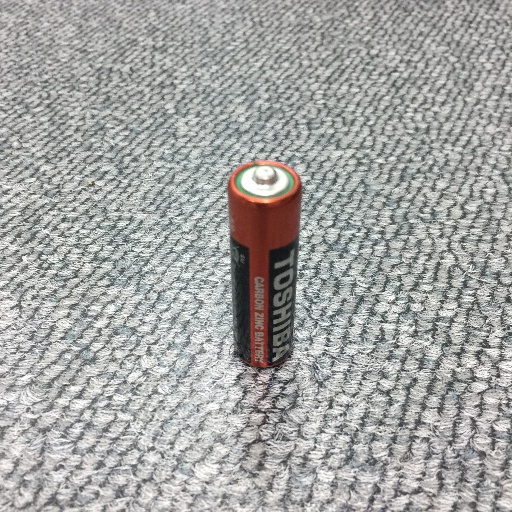Battery_0: (225, 149, 313, 392)
